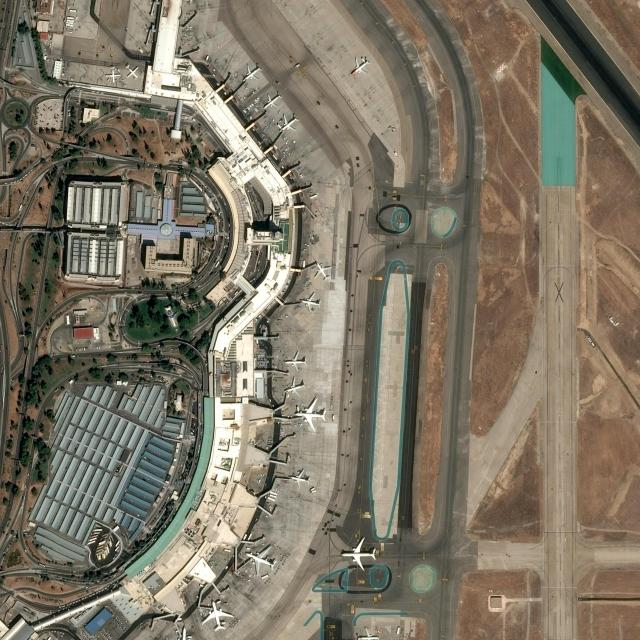aircraft: (340, 536, 376, 571), (292, 399, 326, 431), (244, 546, 278, 575), (200, 600, 232, 630), (283, 350, 308, 371), (282, 377, 306, 397), (349, 56, 369, 78), (300, 291, 321, 311), (313, 260, 332, 282), (277, 114, 299, 132), (242, 63, 261, 82), (262, 91, 282, 109), (288, 468, 308, 486), (123, 64, 140, 80), (105, 66, 120, 84)
